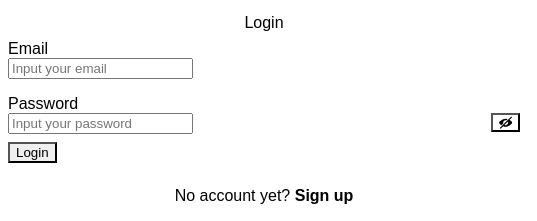
Test: Login Form Email-based Component › should toggle showing and hiding password
The width and height of the screenshot is (537, 221).
Click the button with test id "show-hide-btn" at (505, 123), box [491,113,520,132]
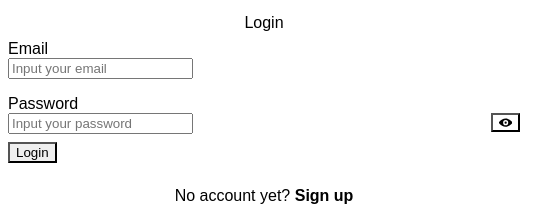
expect the button named "show-password" is shown: met
Click the button named "show-password" at (505, 123), box [491,113,520,132]
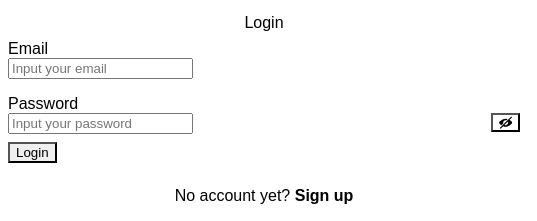
expect the button named "hide-password" is shown: met, box [491,113,520,132]
